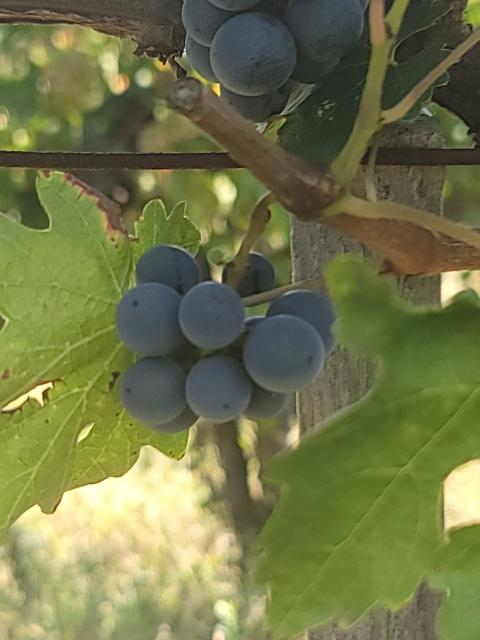grapes: (115, 245, 336, 434)
